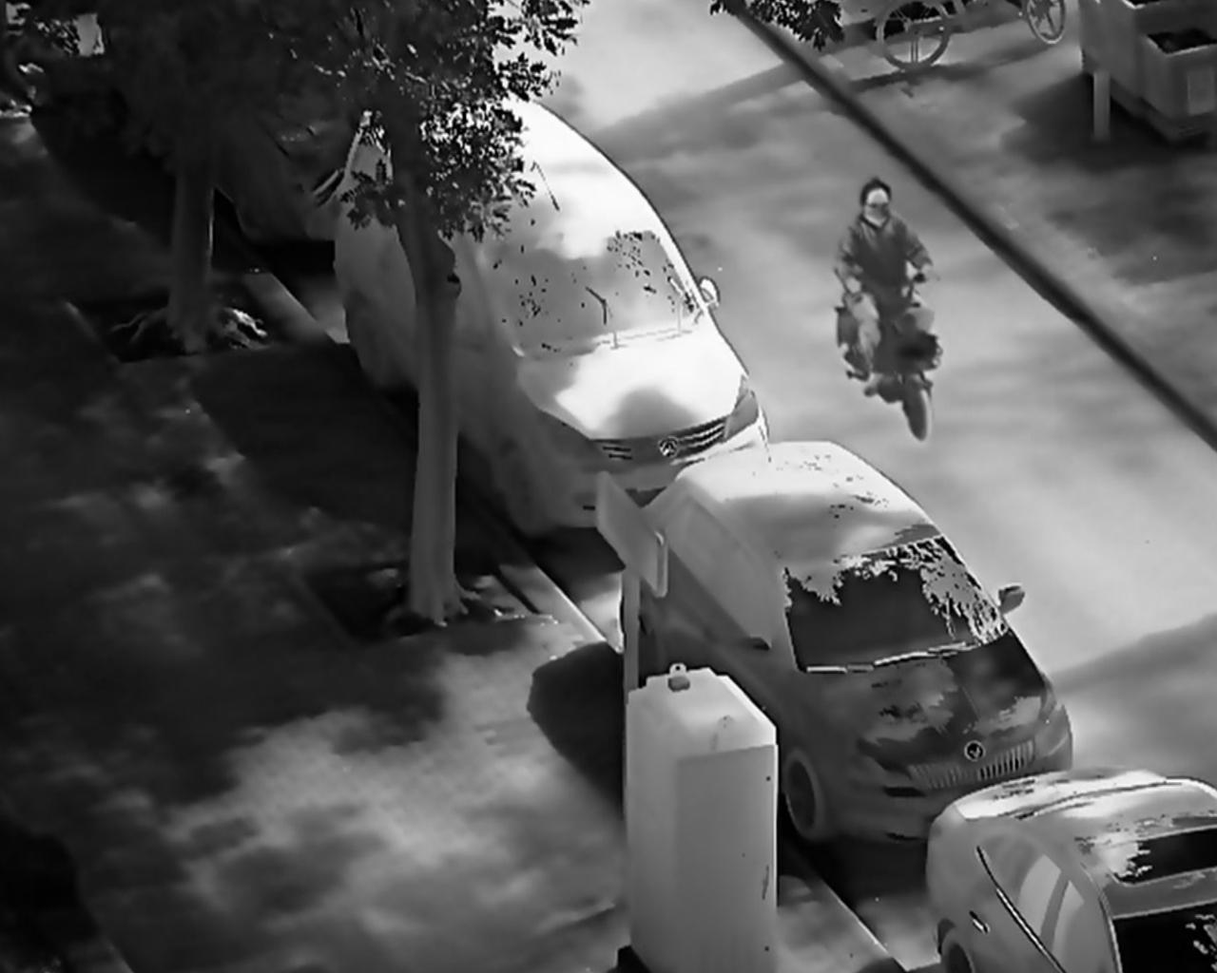person: (833, 175, 943, 388)
